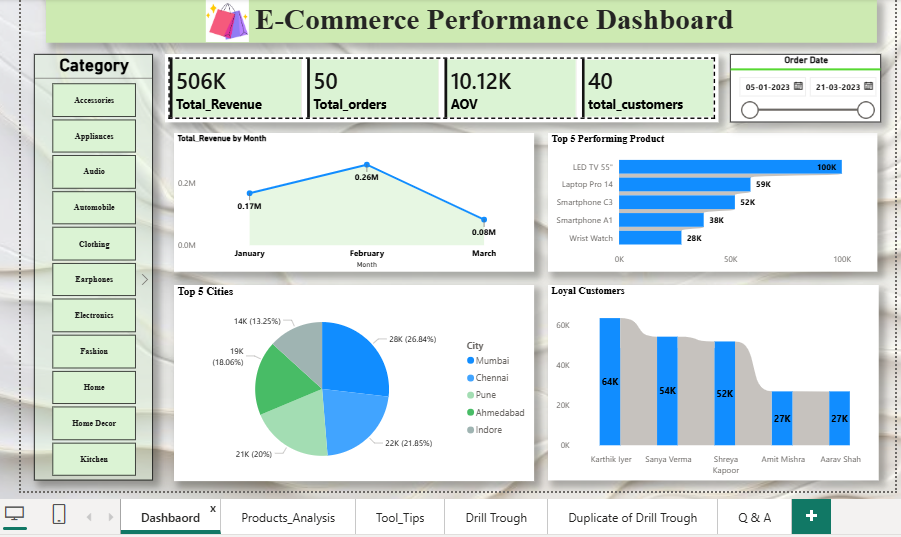

This screenshot's page, from the dashboard's own definition file:
{"tool":"powerbi","page":{"name":"Dashbaord","canvas":[1280,720],"ordinal":0},"visuals":[{"type":"textbox","box":[37,0,1216.2,63.8],"z":0},{"type":"image","box":[260,0,83.3,63.3],"z":1000},{"type":"slicer","title":"Category","fields":{"Values":["Products.Category"]},"box":[18.6,80,174.3,624.3],"z":2000},{"type":"cardVisual","fields":{"Data":["Order_Items.Total_Revenue","Orders.Total_orders","Customers.AOV","Customers.total_customers"]},"box":[211.4,80,810,100],"z":3000},{"type":"lineChart","fields":{"Y":["Order_Items.Total_Revenue"],"Category":["Orders.OrderDate.Variation.Date Hierarchy.Month","Orders.OrderDate.Variation.Date Hierarchy.Day"]},"box":[223.4,196.5,527.5,203.3],"z":4000},{"type":"barChart","title":"Top 5 Performing Product","fields":{"Category":["Products.ProductName"],"Y":["Order_Items.Total_Revenue"]},"box":[771,196.5,482.1,203.3],"z":5000},{"type":"pieChart","title":"Top 5 Cities","fields":{"Category":["Customers.City"],"Y":["Orders.Profit"]},"box":[223.4,418.3,527.5,287.2],"z":6000},{"type":"ribbonChart","title":"Loyal Customers","fields":{"Category":["Customers.Name"],"Y":["Order_Items.Total_Revenue"]},"box":[771,418.3,483.8,285.6],"z":7000},{"type":"slicer","title":"Order Date","fields":{"Values":["Orders.OrderDate"]},"box":[1037.1,80,221.4,100],"z":8000}]}

Visuals, with their boxes on the page's 1280x720 design canvas (x1, y1, x2, y2). These are canvas units, not pixel positions in the 901x537 screenshot, which may show the page scaled, cropped or inside an application window:
textbox: 37 0 1253 64
image: 260 0 343 63
"Category" slicer: 19 80 193 704
cardVisual - Order_Items.Total_Revenue x Orders.Total_orders: 211 80 1021 180
lineChart - Order_Items.Total_Revenue x Orders.OrderDate.Variation.Date Hierarchy.Month: 223 196 751 400
"Top 5 Performing Product" barChart: 771 196 1253 400
"Top 5 Cities" pieChart: 223 418 751 706
"Loyal Customers" ribbonChart: 771 418 1255 704
"Order Date" slicer: 1037 80 1258 180
